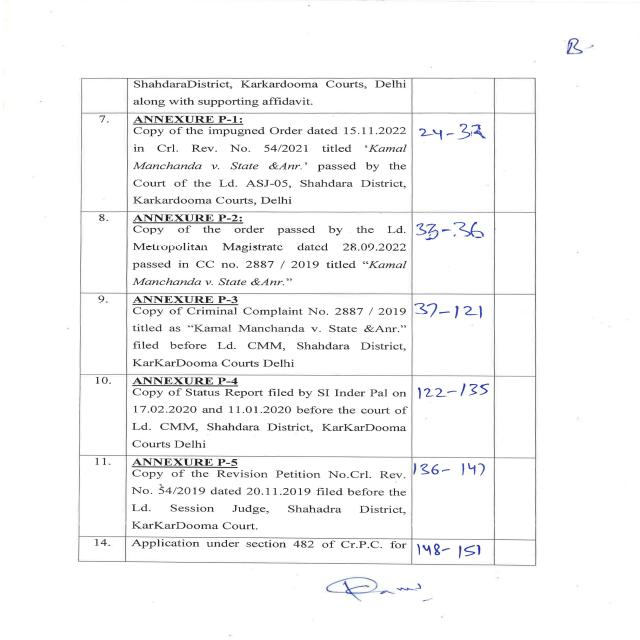page-number: (0, 0, 640, 65)
